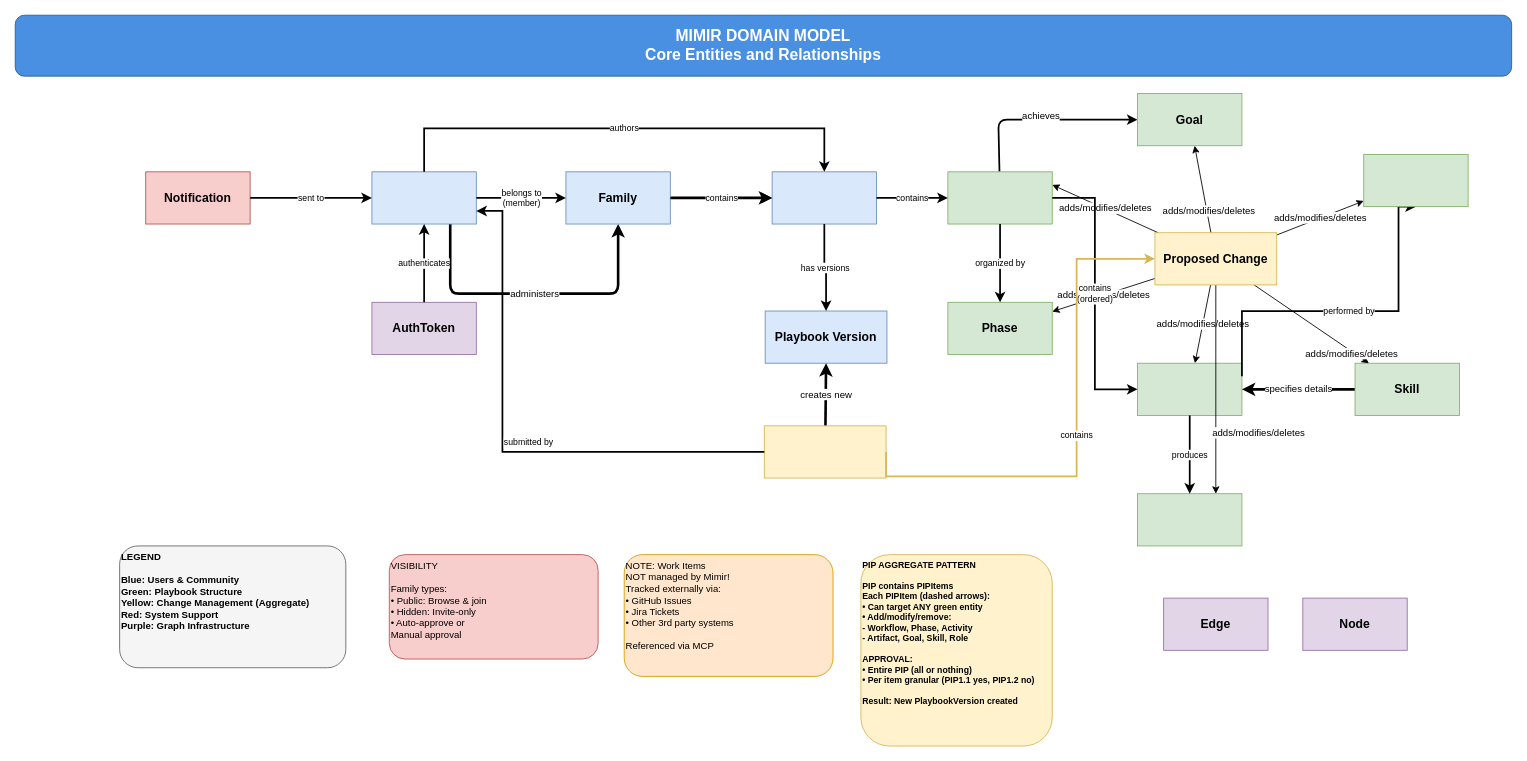
Some shapes in this 1527 by 761 pixel diagram are drawn without their labels. The box of each missing label's shape, as (x1, y1, x2, y2) in pixels:
Activity: (1137, 362, 1242, 415)
Artifact: (1137, 493, 1242, 546)
PIP (Aggregate Root): (763, 425, 886, 478)
Playbook: (771, 171, 877, 224)
Role: (1363, 154, 1468, 207)
User: (371, 171, 476, 224)
Workflow: (947, 171, 1052, 224)
